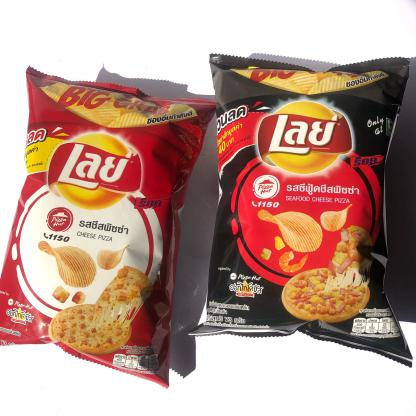potatochip: (190, 48, 416, 370), (0, 63, 218, 391)
